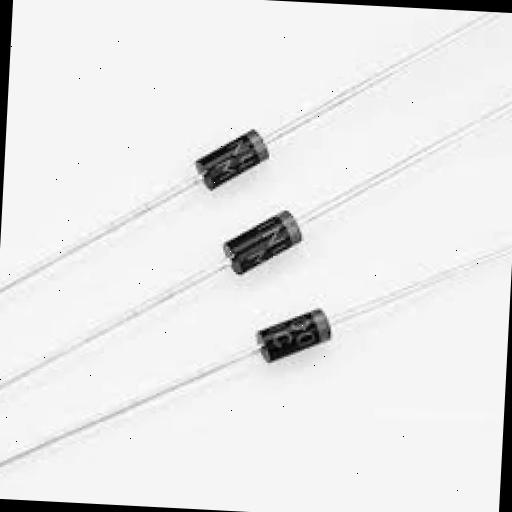DIODE: (220, 205, 303, 278), (192, 124, 270, 194), (254, 302, 332, 366)
